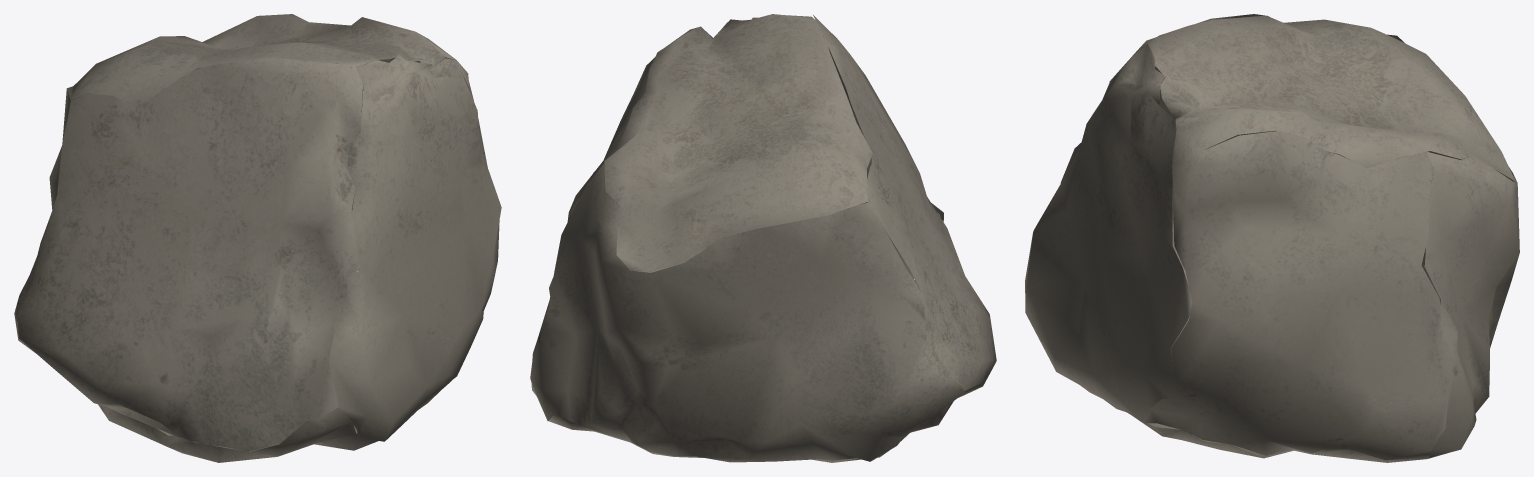
Rendered from moon-rock-02.glb.
3 views of the same model, side by side, from view 1: azimuth 30°, elevation 25°; view 2: azimuth 150°, elevation 25°; view 3: azimuth 270°, elevation 25° (orthographic). The views are drawn at different scales.
Visible parts, largest first — view 1: moon_rock_02_LOD0; view 2: moon_rock_02_LOD0; view 3: moon_rock_02_LOD0.
Boxes of the visible parts, box(x1,y1,x2,y2) form: moon_rock_02_LOD0: box(14, 14, 501, 462); moon_rock_02_LOD0: box(530, 14, 996, 462); moon_rock_02_LOD0: box(1025, 14, 1519, 462).
Size of the model in its own units: 0.2475 by 0.2026 by 0.2511.
1 material, 1 textured.
